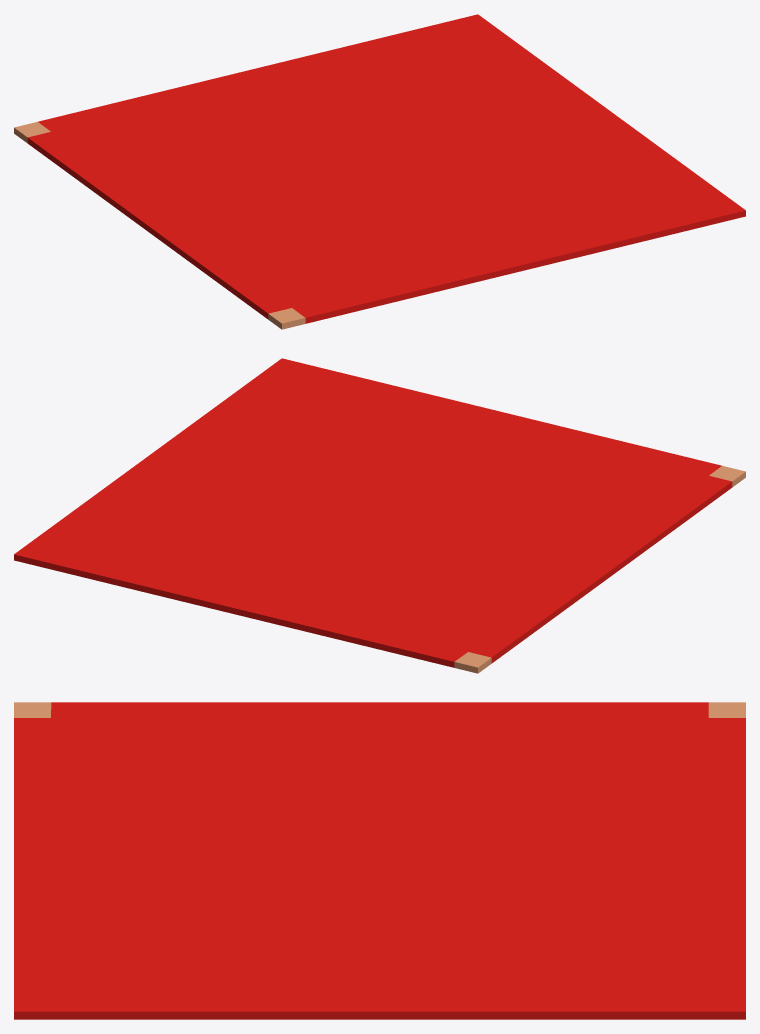
File: carpet-big-corners.fbx
3 views of the same model, one above another, from view 1: azimuth 30°, elevation 25°; view 2: azimuth 150°, elevation 25°; view 3: azimuth 270°, elevation 25° (orthographic). The views are drawn at different scales.
Parts seen in each view (by area): view 1: carpet-big-corners; view 2: carpet-big-corners; view 3: carpet-big-corners.
Boxes of the visible parts, x1,y1,x2,y2 form: carpet-big-corners: (14, 14, 745, 329); carpet-big-corners: (14, 358, 745, 673); carpet-big-corners: (14, 702, 745, 1019).
Bounding box in the file's own units: 400 × 5 × 400.
